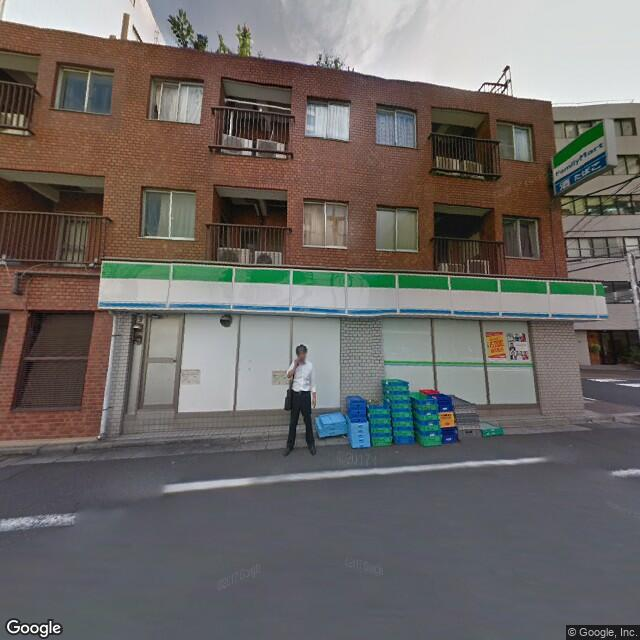family_mart: (98, 259, 608, 320), (551, 117, 609, 192)
